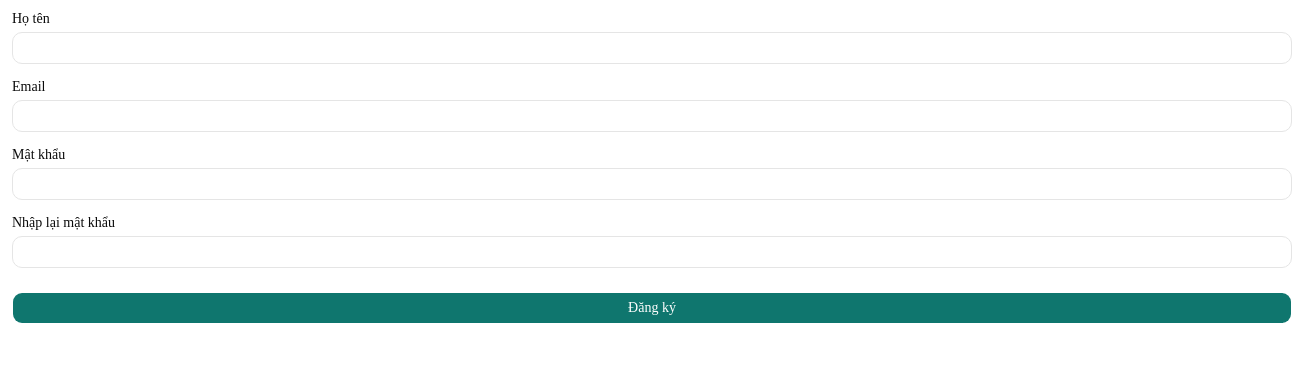
Test case: RegisterForm › shows confirmPassword mismatch error and does not submit
This screenshot has width=1304, height=366.
In the field labelled "Họ tên": point(652, 48) top-left (12, 32), bottom-right (1292, 64), type "Nguyen Van A"
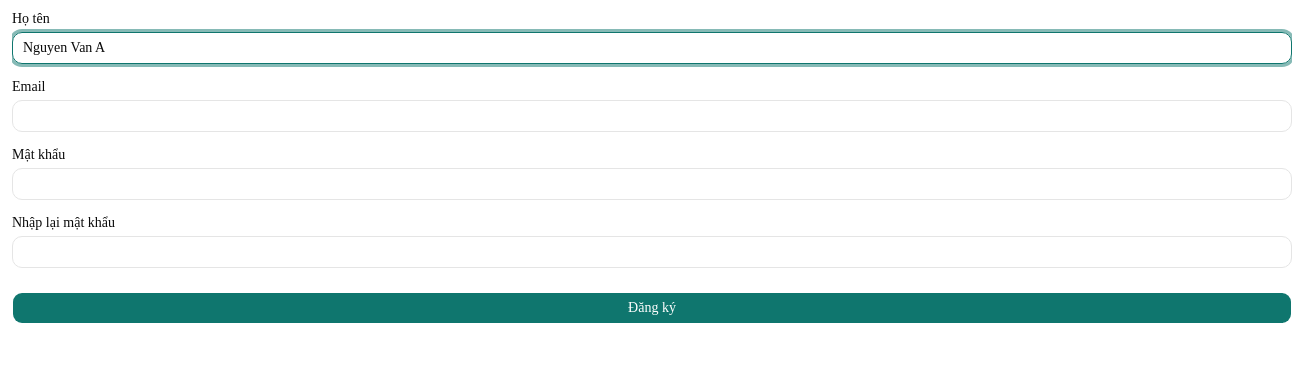
In the field labelled "Email": point(652, 116) top-left (12, 100), bottom-right (1292, 132), type "user@example.com"
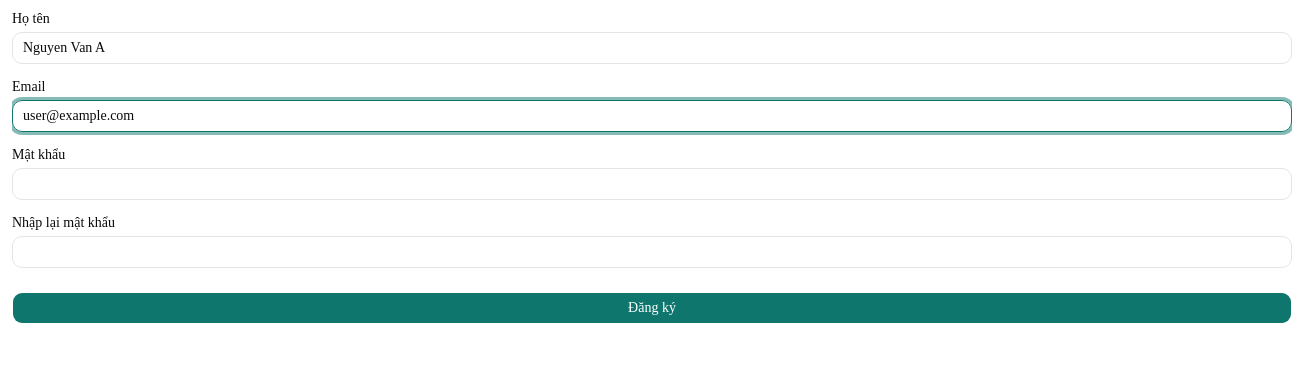
In the password field labelled "Mật khẩu": point(652, 184) top-left (12, 168), bottom-right (1292, 200), type "password123"
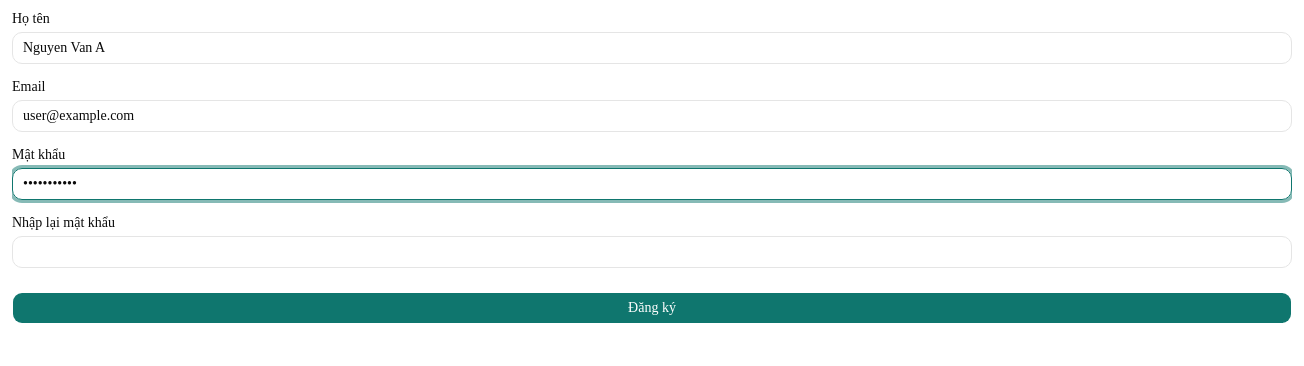
In the password field labelled "Nhập lại mật khẩu": point(652, 252) top-left (12, 236), bottom-right (1292, 268), type "wrongpassword"
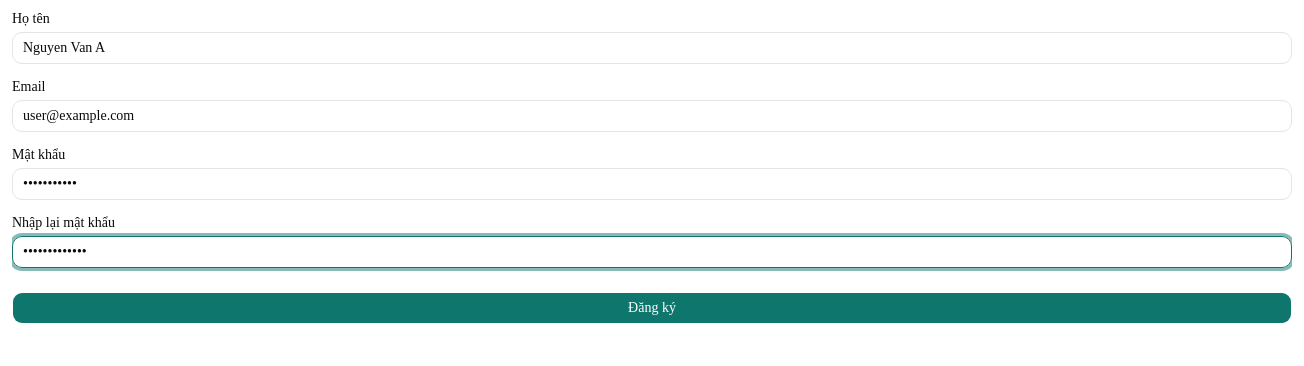
Click the button "Đăng ký": point(652, 308) top-left (12, 292), bottom-right (1292, 324)
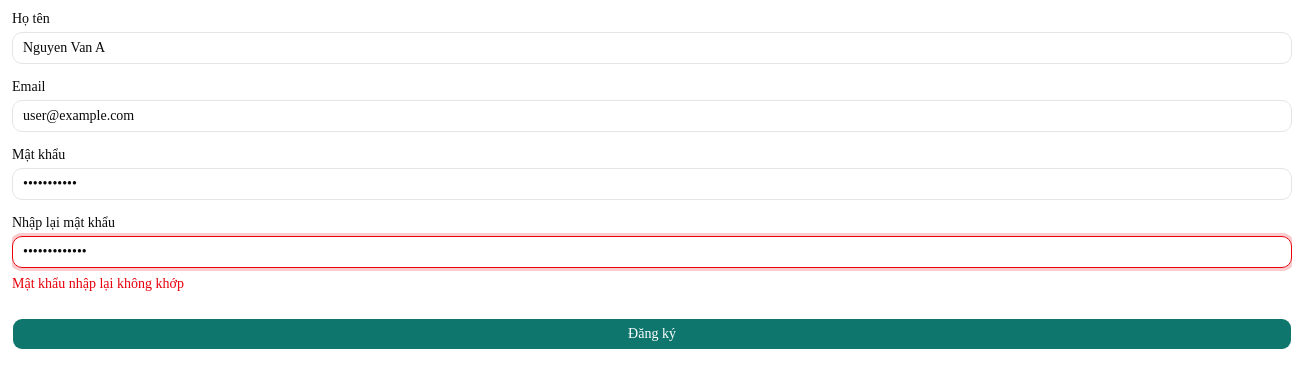
Result: the text "Mật khẩu nhập lại không khớp" is shown at top-left (12, 276), bottom-right (184, 291)
